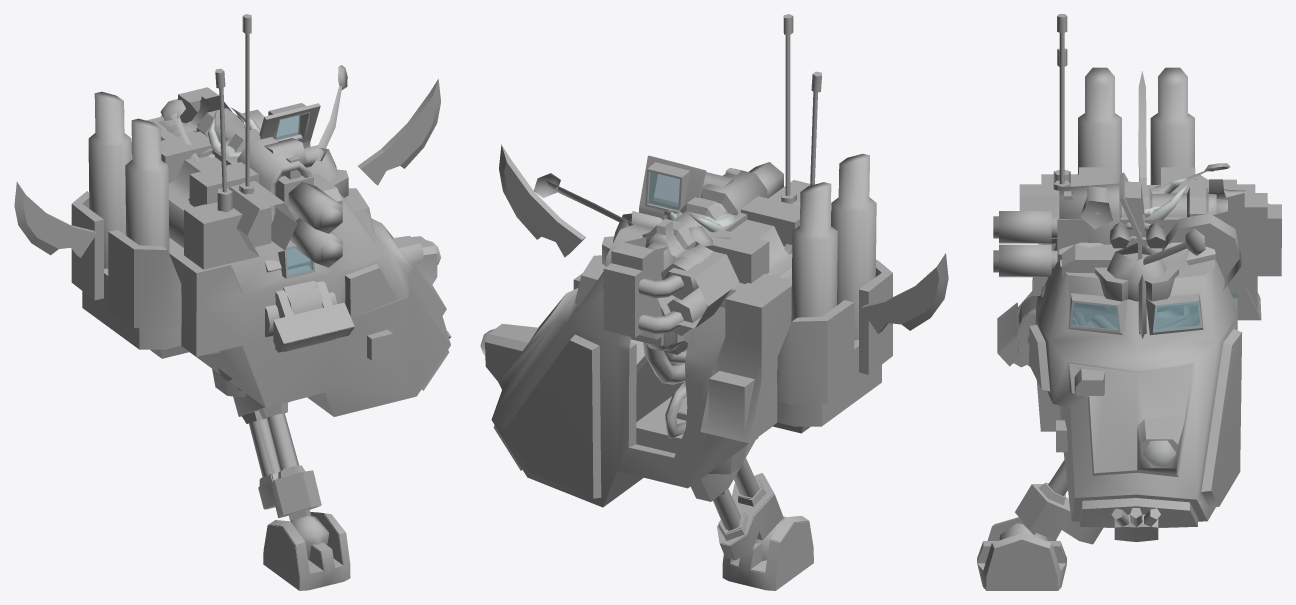
The model's file is bp_sentinel_melta_rocket-0aiyb81.glb.
3 renders of one model, left to right at view 1: azimuth 30°, elevation 25°; view 2: azimuth 150°, elevation 25°; view 3: azimuth 270°, elevation 25°, orthographic. The views are drawn at different scales.
Parts seen in each view (by area): view 1: turret, turret_interior, body, melta, legr3, legl2, gun1, legl3, object012, object011, legl4, legr4 (+5 smaller); view 2: turret, turret_interior, melta, body, gun1, legr3, legr4, object012, object011, door, legl3, detail4 (+2 smaller); view 3: turret, turret_interior, melta, body, legl4, gun1, legl3, gun_rot_melta, door, object014, detail4, legr2 (+5 smaller).
Part boxes in pixels (x1,y1,x2,y2): turret: (71,14,451,416); turret_interior: (72,92,450,416); body: (131,116,348,256); melta: (158,87,342,267); legr3: (238,402,320,560); legl2: (218,281,353,390); gun1: (195,108,311,266); legl3: (233,393,329,544); object012: (358,79,440,185); object011: (14,182,96,257); legl4: (268,512,350,590); legr4: (263,512,349,590); turret: (480,14,892,507); turret_interior: (485,154,892,505); melta: (603,162,783,384); body: (602,180,831,328); gun1: (645,168,767,354); legr3: (665,396,783,560); legr4: (722,521,813,590); object012: (499,144,585,257); object011: (860,253,948,333); door: (639,155,706,219); legl3: (665,385,784,545); detail4: (533,173,731,246); turret: (1029,14,1261,541); turret_interior: (1029,67,1260,527); melta: (993,179,1281,329); body: (1019,167,1255,311); legl4: (977,517,1066,590); gun1: (1059,183,1227,316); legl3: (999,460,1102,541); gun_rot_melta: (1062,244,1126,277); door: (1119,172,1144,259); object014: (1110,178,1186,317); detail4: (1136,163,1230,264); legr2: (997,304,1078,367).
Bounding box in the file's own units: 58.43 × 70.9 × 35.97.
